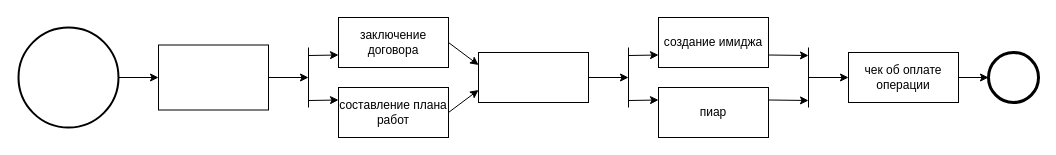
The diagram is 1056 pixels wide and 155 high, and some of its shapes have lost their labels. Each missing label, with the centre of its shape:
выполнение услуг: point (533, 77)
предоставление информации об оказываемых услугах: point (213, 77)
